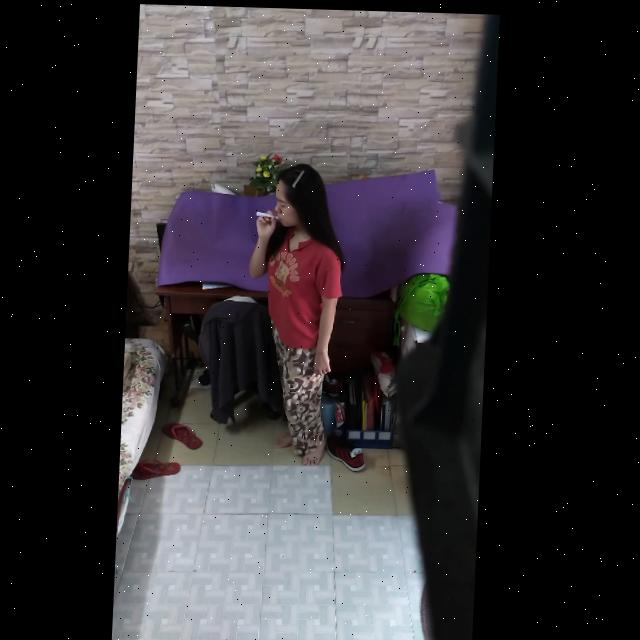cigarette: (258, 210, 281, 217)
